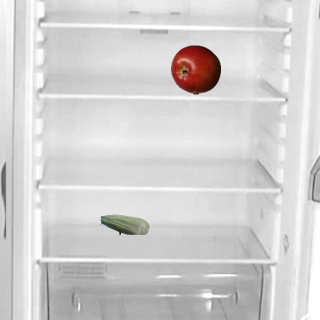Apple Braeburn: (170, 44, 220, 94)
Corn Husk: (99, 199, 149, 249)
